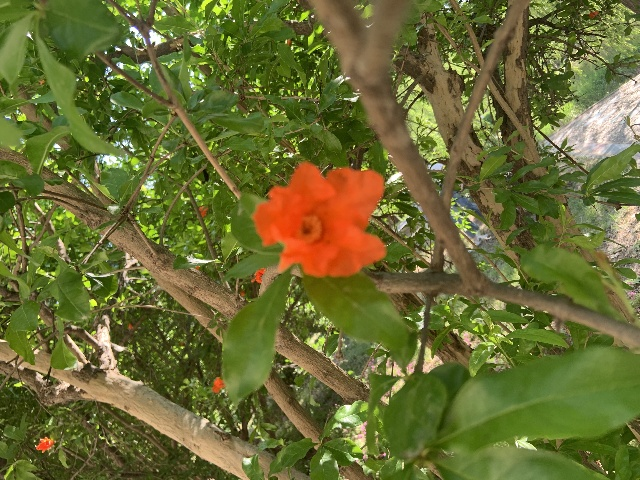flower: (252, 161, 387, 279), (35, 436, 55, 453), (211, 376, 225, 393), (254, 267, 265, 283), (198, 205, 208, 217), (587, 10, 599, 17)
